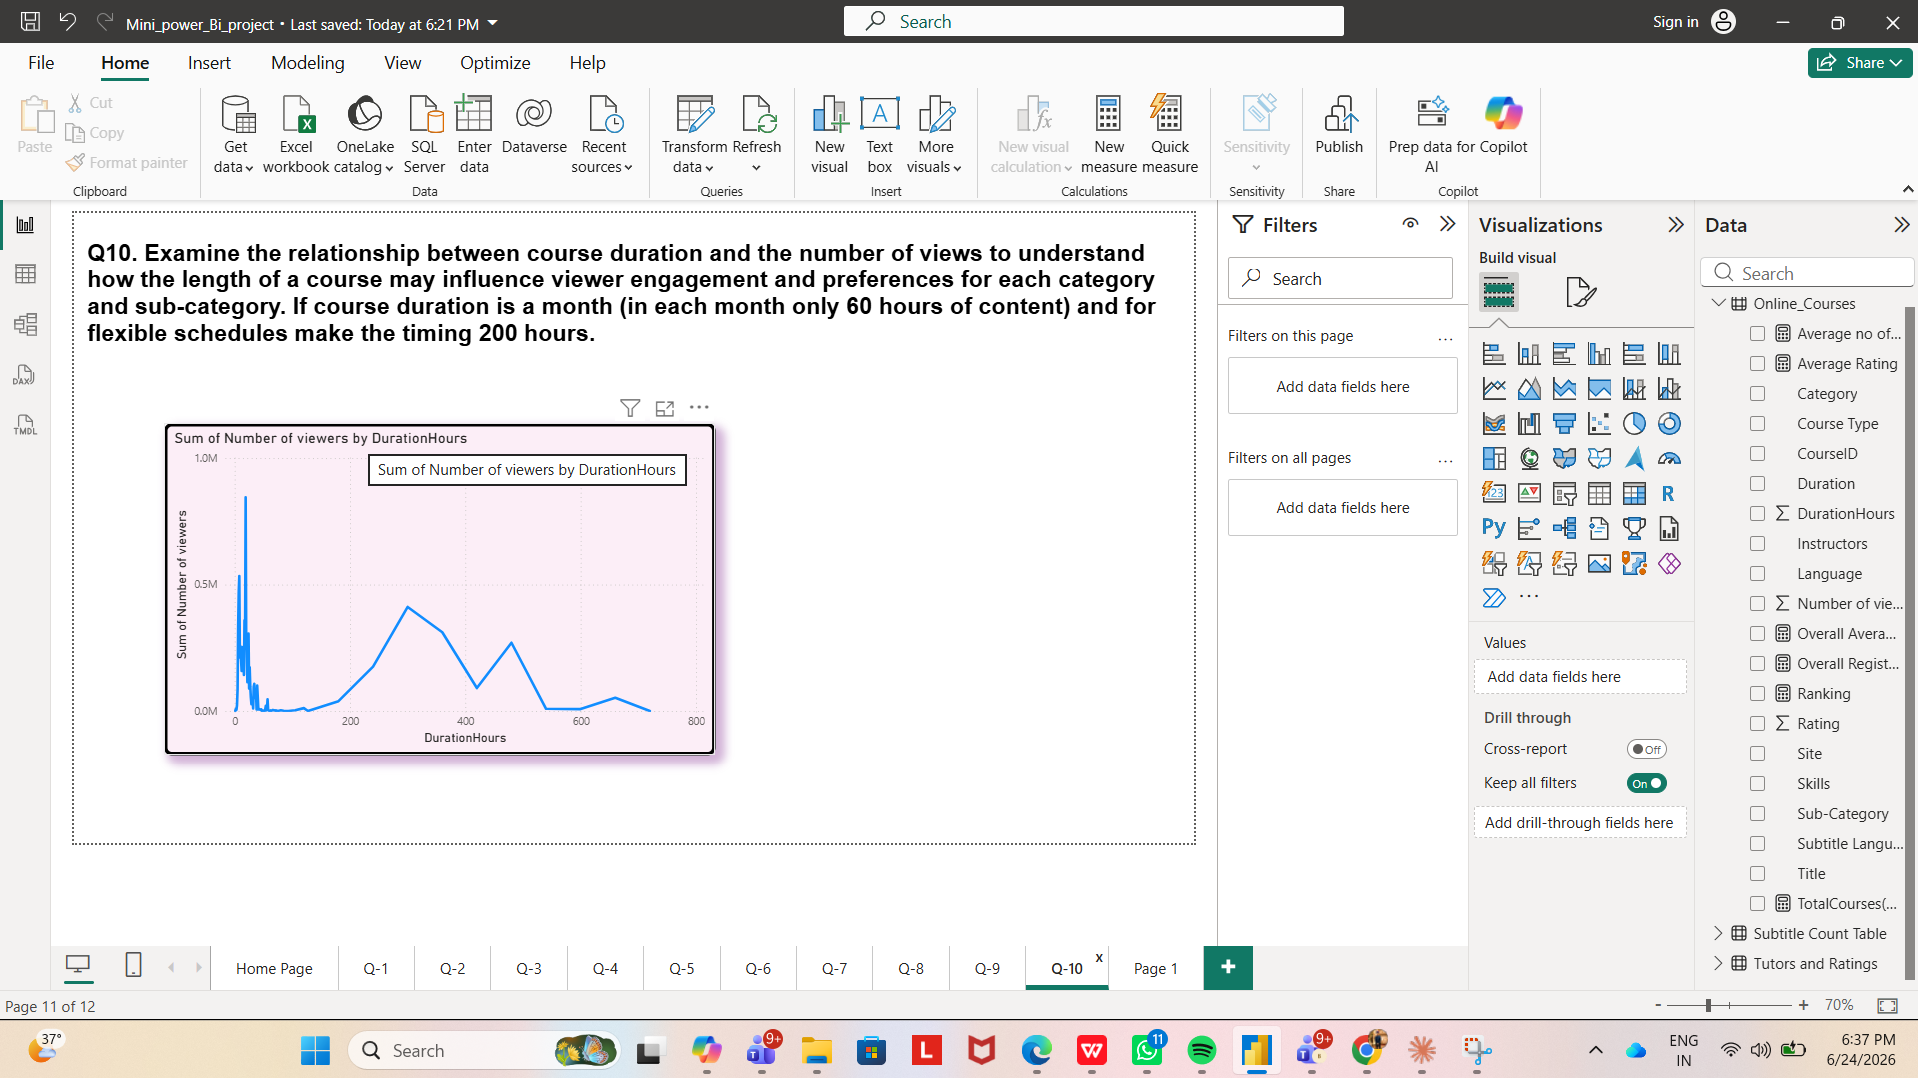

What the dashboard file says about the page in this screenshot:
{"tool":"powerbi","page":{"name":"Q-10","canvas":[1280,720],"ordinal":10},"visuals":[{"type":"textbox","box":[9.6,26.1,1270.7,135.8],"z":0},{"type":"lineChart","fields":{"Category":["Online_Courses.DurationHours"],"Y":["Sum(Online_Courses.Number of viewers)"]},"box":[102.9,240,630,380],"z":1}]}

Visuals, with their boxes on the page's 1280x720 design canvas (x1, y1, x2, y2). These are canvas units, not pixel positions in the 1918x1078 screenshot, which may show the page scaled, cropped or inside an application window:
textbox: (left=10, top=26, right=1280, bottom=162)
lineChart - Online_Courses.DurationHours x Sum(Online_Courses.Number of viewers): (left=103, top=240, right=733, bottom=620)
